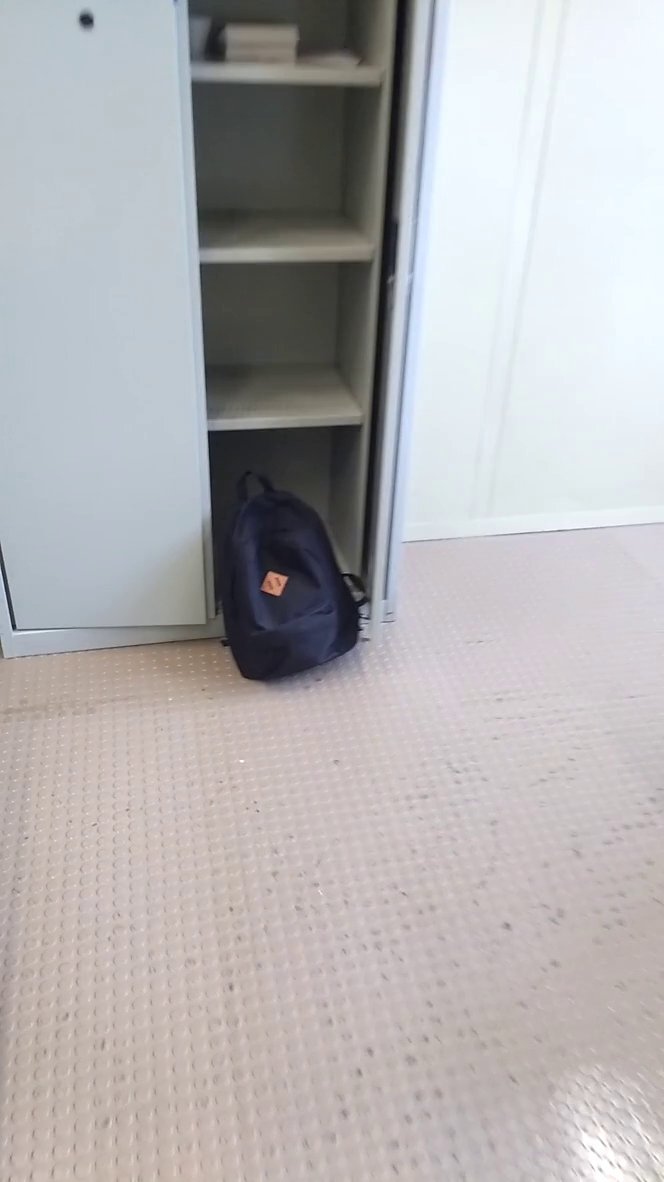bag: (209, 462, 374, 692)
